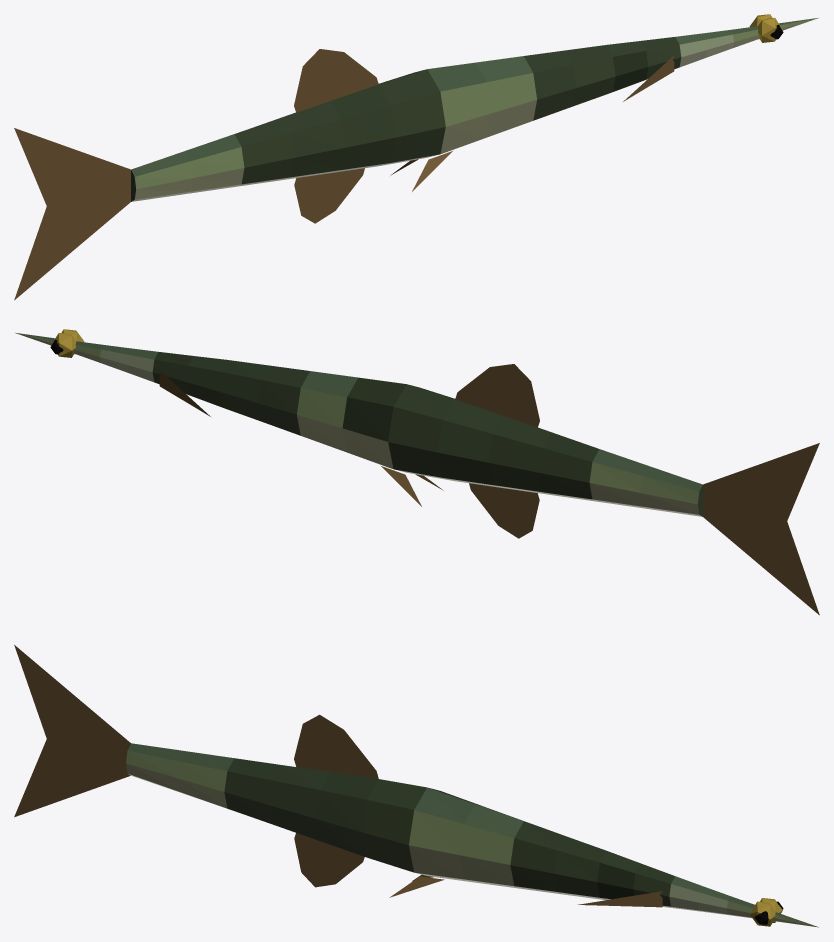
Rendered from muskellunge.glb.
3 renders of one model, top to bottom at view 1: azimuth 30°, elevation 25°; view 2: azimuth 150°, elevation 25°; view 3: azimuth 330°, elevation 25°, orthographic.
Parts seen in each view (by area): view 1: muskellunge; view 2: muskellunge; view 3: muskellunge.
Part boxes in pixels (x1,y1,x2,y2): muskellunge: (14, 14, 818, 300); muskellunge: (15, 329, 819, 615); muskellunge: (14, 645, 818, 927).
Bounding box in the file's own units: 1.17 × 0.2461 × 0.1136.
